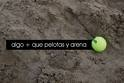tennis ball: (91, 36, 107, 52)
